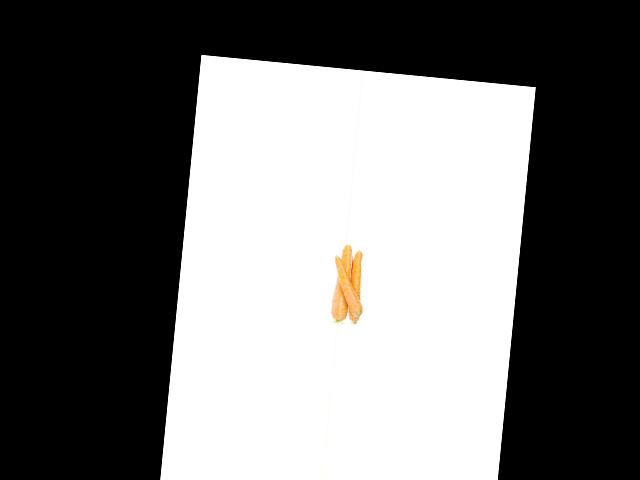carrot: (329, 240, 352, 324)
